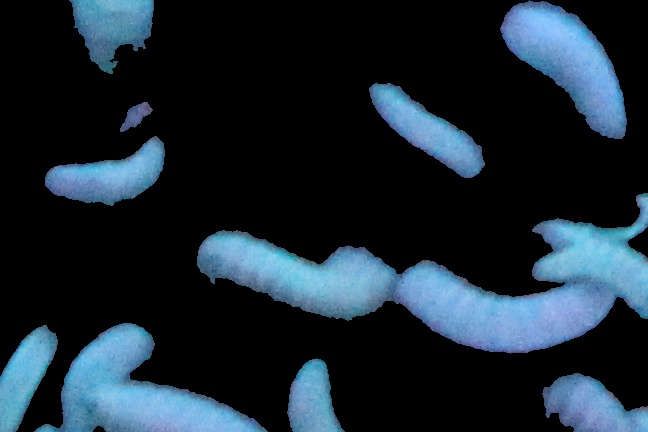larvae: (398, 263, 611, 347), (502, 5, 627, 143), (194, 235, 391, 315), (63, 316, 157, 432), (368, 83, 482, 177), (81, 381, 268, 432), (61, 1, 154, 97), (44, 138, 164, 206), (1, 325, 57, 432), (275, 350, 344, 432)
